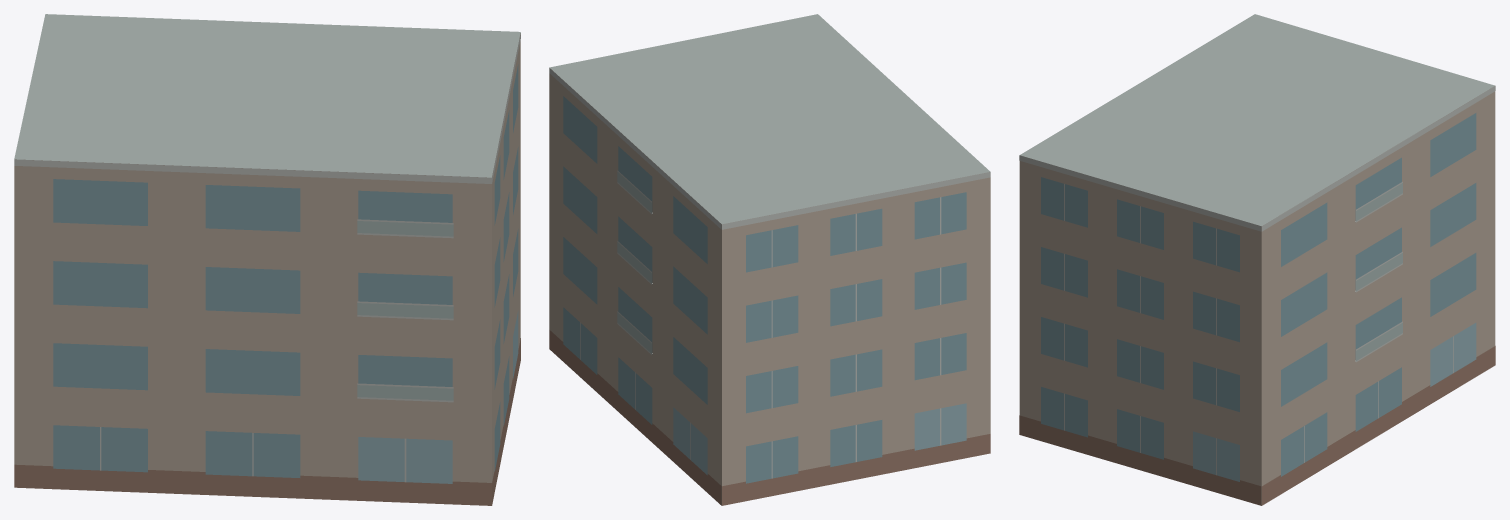
File: survey-upis-32842032.glb
The picture shows the model from 3 angles, left to right: view 1: azimuth 30°, elevation 25°; view 2: azimuth 150°, elevation 25°; view 3: azimuth 270°, elevation 25°; orthographic projection. The views are drawn at different scales.
Visible parts, largest first — view 1: survey-upis-32842032.tmp; view 2: survey-upis-32842032.tmp; view 3: survey-upis-32842032.tmp.
Boxes of the visible parts, x1=… form: survey-upis-32842032.tmp: x1=14, y1=14, x2=520, y2=505; survey-upis-32842032.tmp: x1=549, y1=14, x2=990, y2=505; survey-upis-32842032.tmp: x1=1019, y1=14, x2=1495, y2=505.
Bounding box in the file's own units: 20.19 × 12.4 × 19.13.
